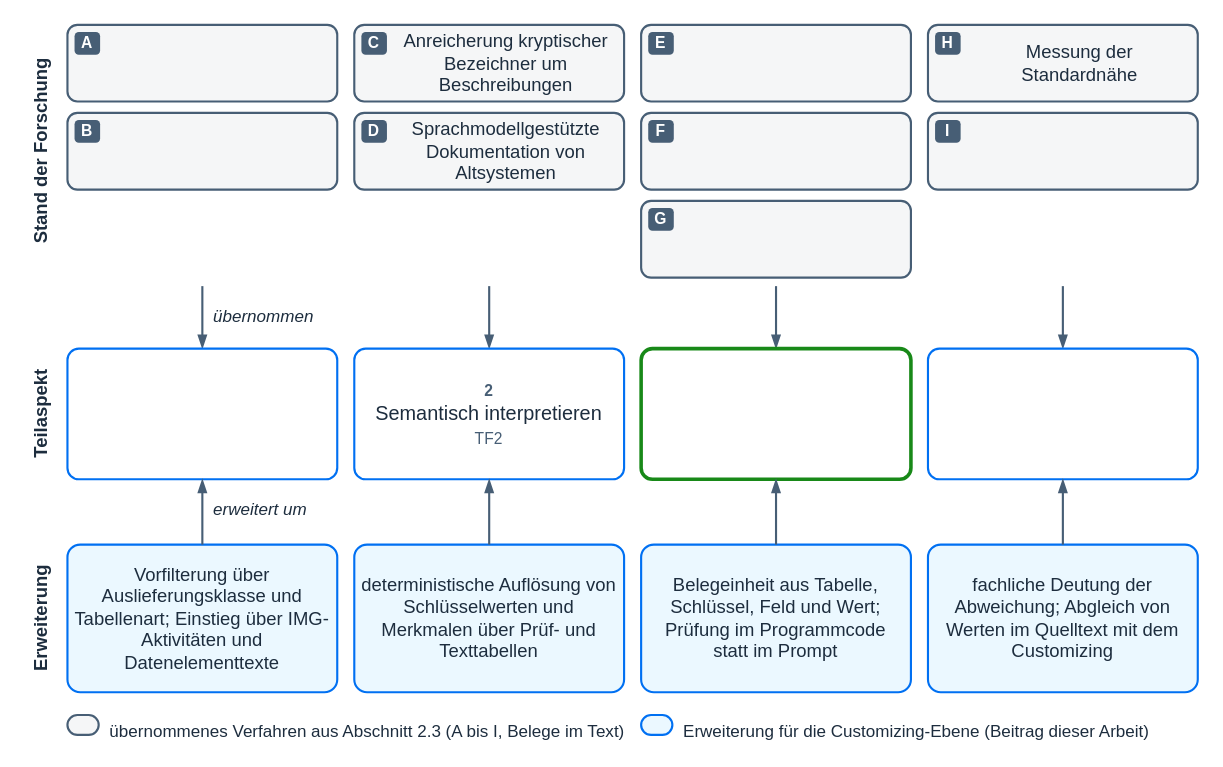
The diagram is 1223 pixels wide and 767 high, and some of its shapes have lost their labels. Here are the shapes that lost their labels. From the top down, the box of each, then its label:
(66, 23, 338, 102): Iterative, agentengesteuerte Schema-Exploration
(639, 23, 911, 102): Mitgelieferte Belegabfrage
(66, 111, 338, 190): Tabellenbeziehungen aus dem Data Dictionary
(639, 111, 911, 190): Prüfung vor der Ausgabe
(926, 111, 1198, 190): Tabellarischer Customizing-Abgleich
(639, 199, 911, 278): Enthaltung bei unzureichender Evidenz
(66, 347, 338, 480): 1 Relevante Konfiguration erschließen TF1
(639, 346, 912, 480): 3 Aussagen an Systemdaten absichern TF3
(926, 347, 1198, 480): 4 Abweichung vom Standard ausweisen TF4
